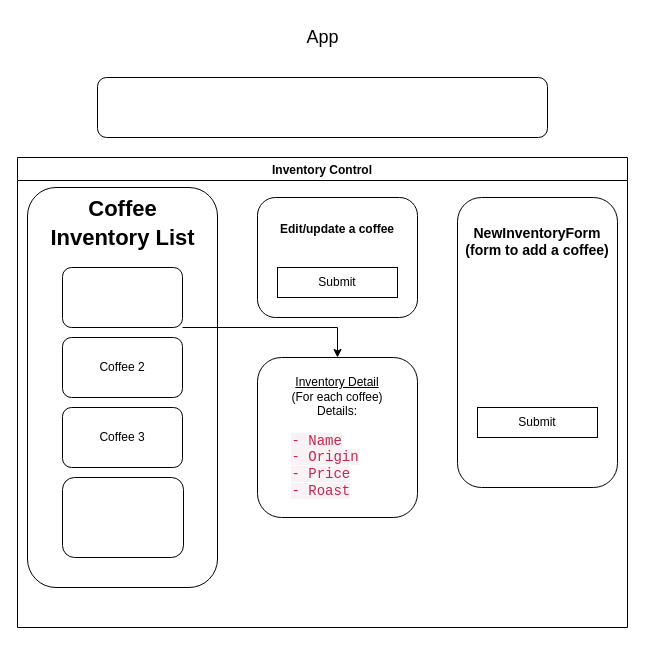
Some shapes in this 645 by 645 pixel diagram are drawn without their labels. Each missing label, with the centre of its shape:
Add Coffee Button Opens Add Coffee Form, button in InventoryControl: pixel 123 517
Coffee 1: pixel 122 297
Header: pixel 322 107
